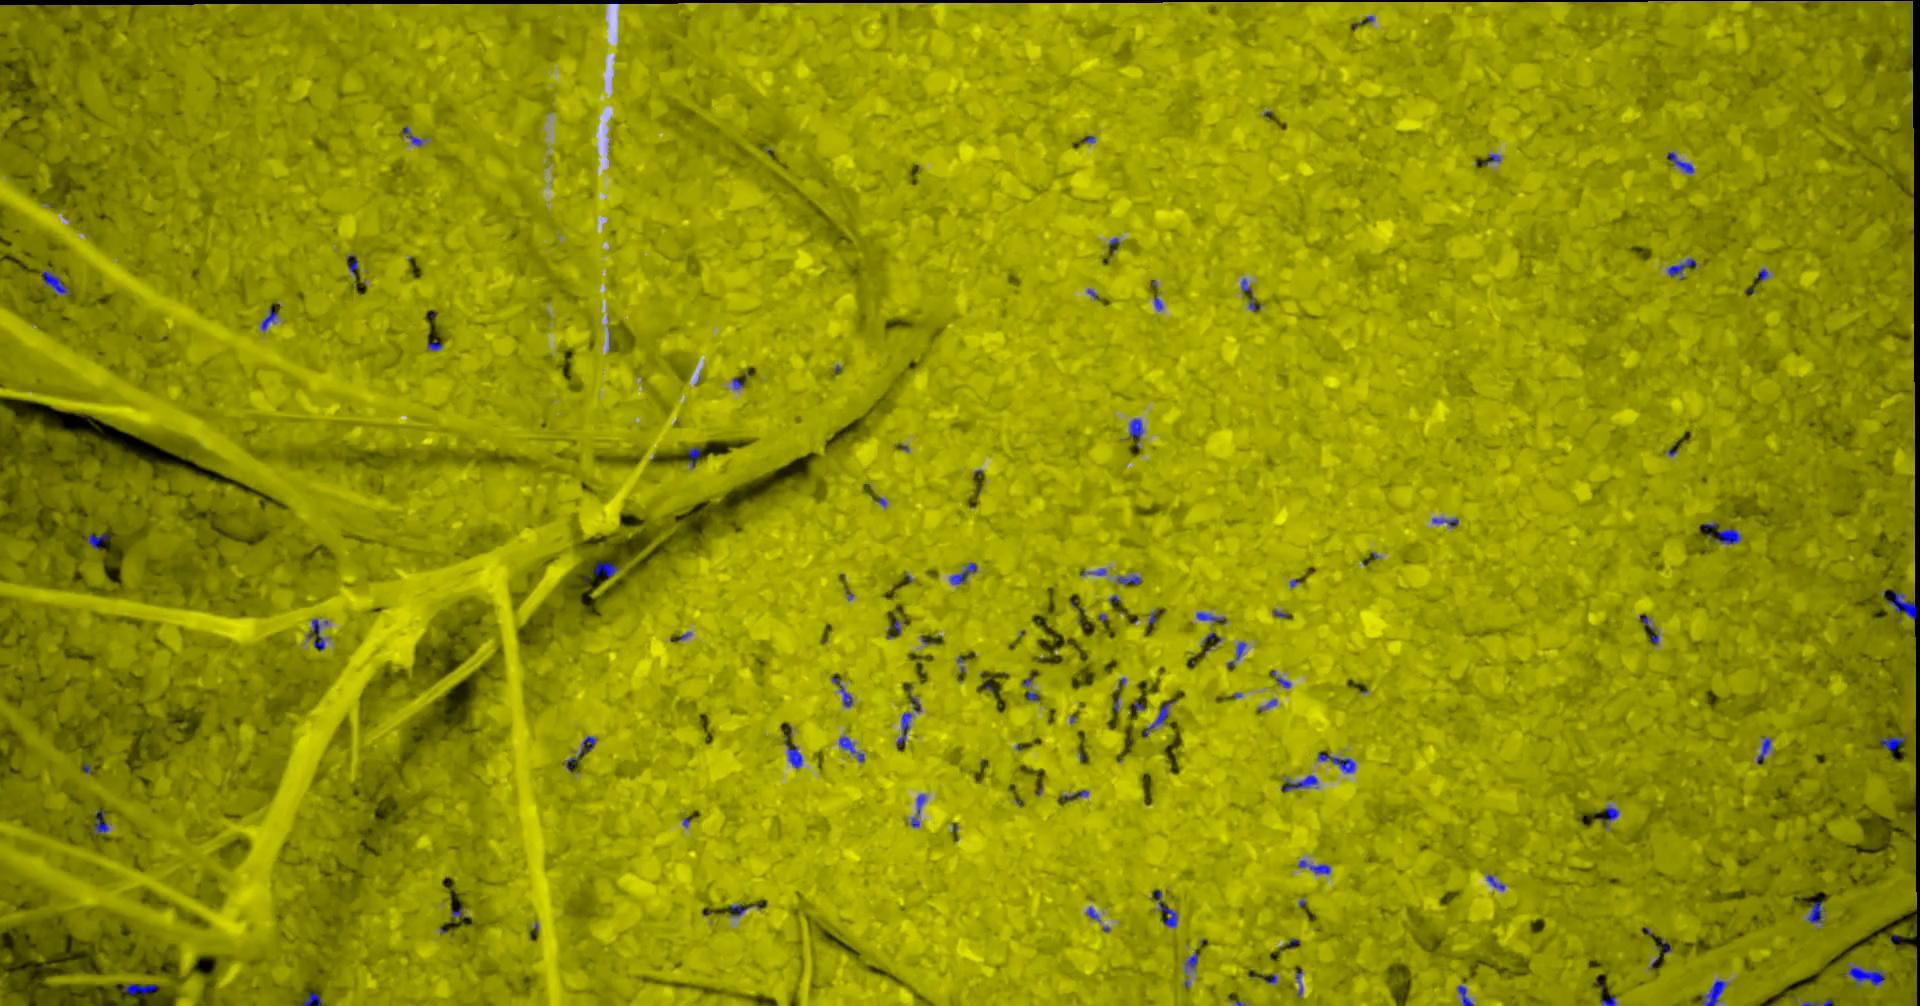ant: (1145, 699, 1177, 735), (568, 735, 598, 771), (1886, 591, 1917, 619), (1157, 890, 1178, 927), (1319, 752, 1357, 772), (1846, 967, 1886, 986), (1703, 979, 1730, 1005), (43, 271, 71, 295), (841, 735, 866, 761), (951, 561, 978, 584), (1283, 775, 1319, 791), (1669, 151, 1697, 173), (1669, 258, 1697, 279), (786, 735, 804, 768), (309, 619, 326, 650), (898, 713, 913, 746), (907, 682, 922, 711), (1716, 528, 1743, 544), (1601, 805, 1620, 827), (262, 307, 279, 330), (1300, 860, 1332, 873), (1131, 418, 1145, 446), (1757, 735, 1771, 763), (404, 126, 424, 145), (95, 809, 110, 835), (126, 983, 159, 995), (1881, 735, 1907, 749), (596, 561, 620, 577), (1271, 669, 1291, 687), (1458, 984, 1476, 1005), (89, 532, 110, 549), (841, 683, 855, 708), (1810, 901, 1825, 922), (1197, 612, 1228, 622), (1063, 789, 1090, 800), (1488, 874, 1506, 890), (1432, 517, 1460, 527), (690, 446, 701, 467), (303, 992, 323, 1005), (349, 254, 359, 277), (1117, 575, 1143, 584), (1186, 951, 1199, 969), (731, 904, 750, 915), (918, 793, 927, 814), (1803, 998, 1832, 1005), (1237, 641, 1247, 659), (1603, 995, 1617, 1005)
